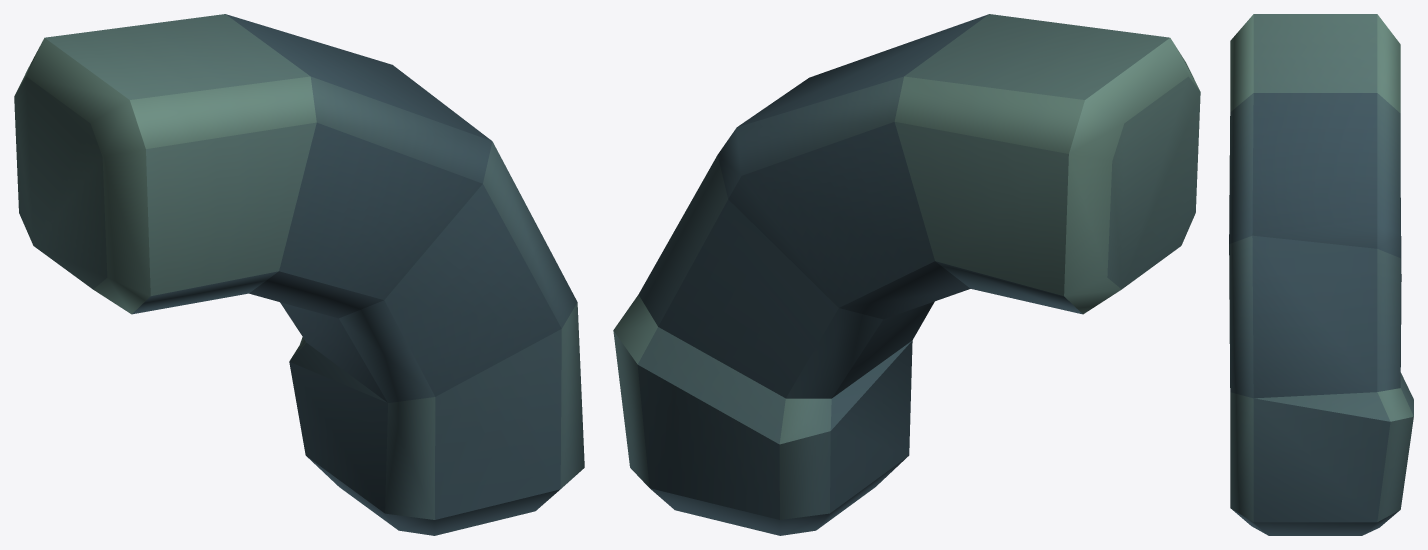
The model's file is archway_small_arch_part.fbx.
3 renders of one model, left to right at view 1: azimuth 30°, elevation 25°; view 2: azimuth 150°, elevation 25°; view 3: azimuth 270°, elevation 25°, orthographic. The views are drawn at different scales.
Parts seen in each view (by area): view 1: archway_small_arch_part; view 2: archway_small_arch_part; view 3: archway_small_arch_part.
Boxes of the visible parts, x1,y1,x2,y2 form: archway_small_arch_part: (14, 14, 584, 535); archway_small_arch_part: (613, 14, 1200, 535); archway_small_arch_part: (1229, 14, 1413, 535).
Size of the model in its own units: 137 by 135 by 61.39.
